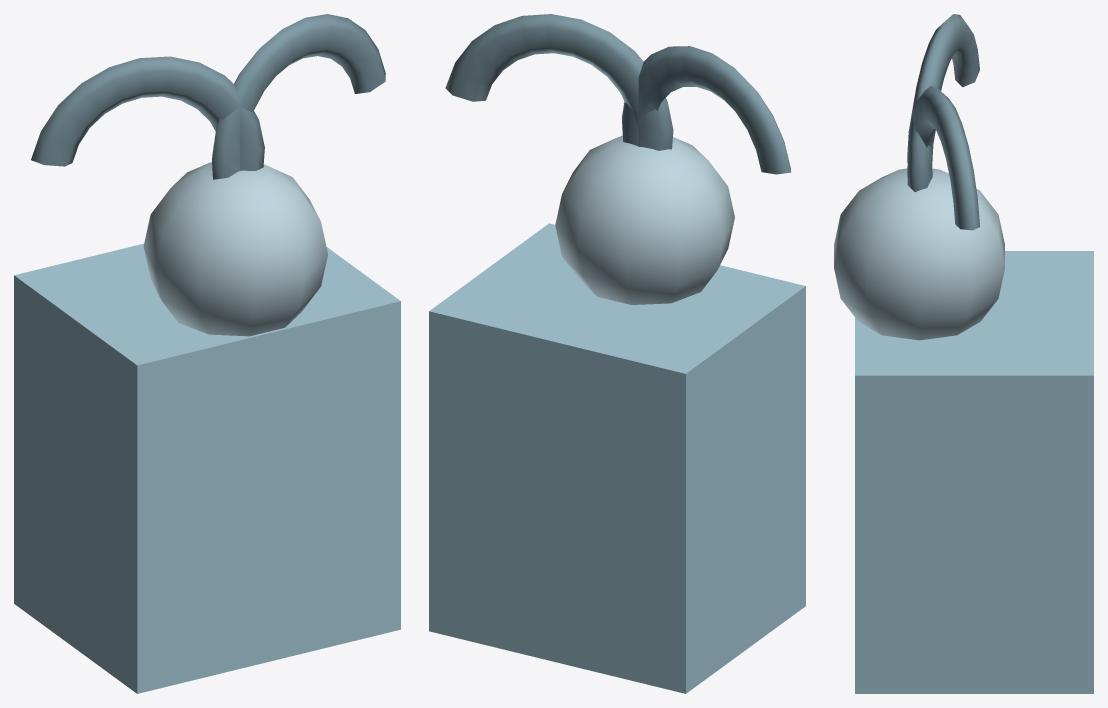
The model's file is snow_monster_2.glb.
3 views of the same model, side by side, from view 1: azimuth 30°, elevation 25°; view 2: azimuth 150°, elevation 25°; view 3: azimuth 270°, elevation 25° (orthographic). The views are drawn at different scales.
Parts seen in each view (by area): view 1: CoreBody, Head, MOTIF_snow_antler_-1, MOTIF_snow_antler_1; view 2: CoreBody, Head, MOTIF_snow_antler_1, MOTIF_snow_antler_-1; view 3: CoreBody, Head, MOTIF_snow_antler_-1, MOTIF_snow_antler_1.
Part boxes in pixels (box(x1,y1,x2,y2)): CoreBody: box(14, 243, 400, 693); Head: box(143, 162, 327, 336); MOTIF_snow_antler_-1: box(31, 56, 264, 170); MOTIF_snow_antler_1: box(212, 14, 385, 179); CoreBody: box(429, 223, 805, 693); Head: box(555, 135, 734, 304); MOTIF_snow_antler_1: box(445, 14, 673, 150); MOTIF_snow_antler_-1: box(621, 46, 791, 174); CoreBody: box(855, 251, 1093, 693); Head: box(834, 168, 1004, 340); MOTIF_snow_antler_-1: box(907, 14, 979, 191); MOTIF_snow_antler_1: box(907, 86, 979, 230).
Bounding box in the file's own units: 1.3 × 2.06 × 0.851.
